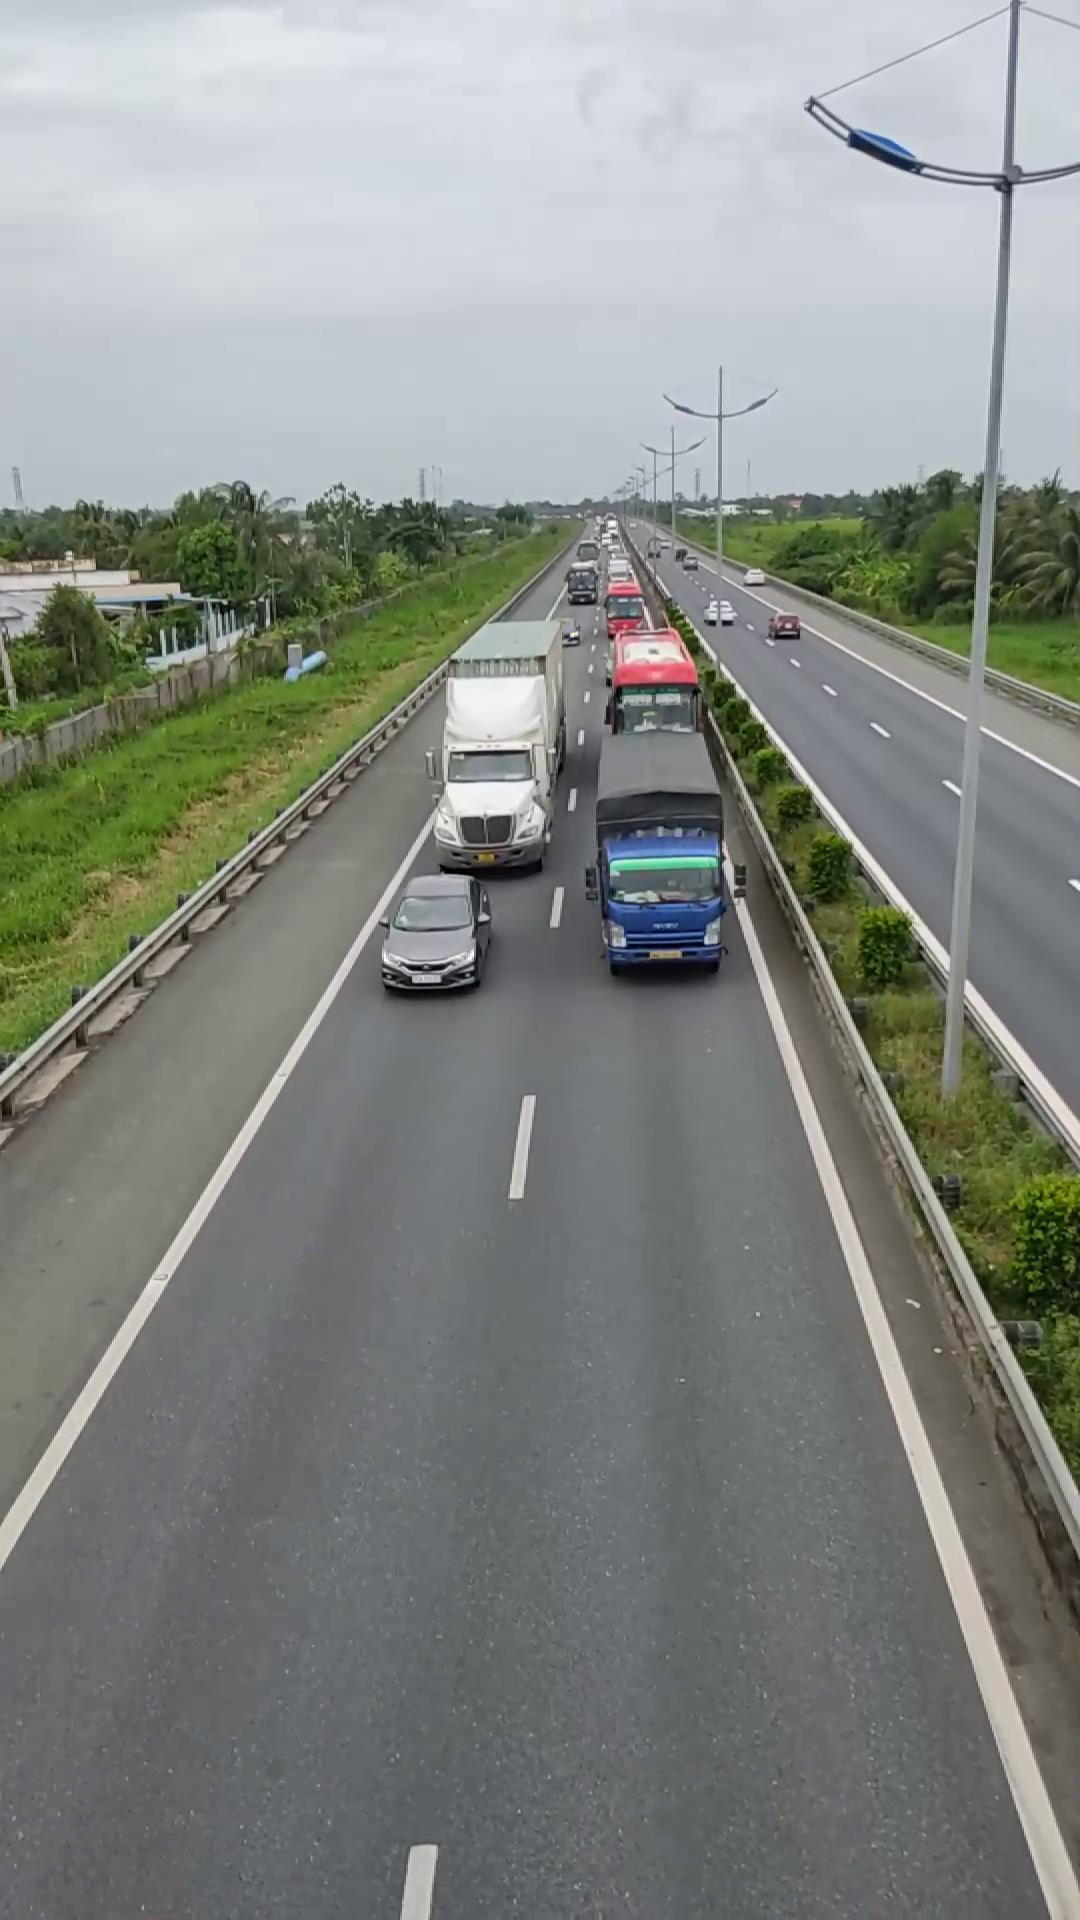car: (377, 872, 492, 993)
container: (433, 615, 571, 872)
truck: (585, 702, 733, 977)
